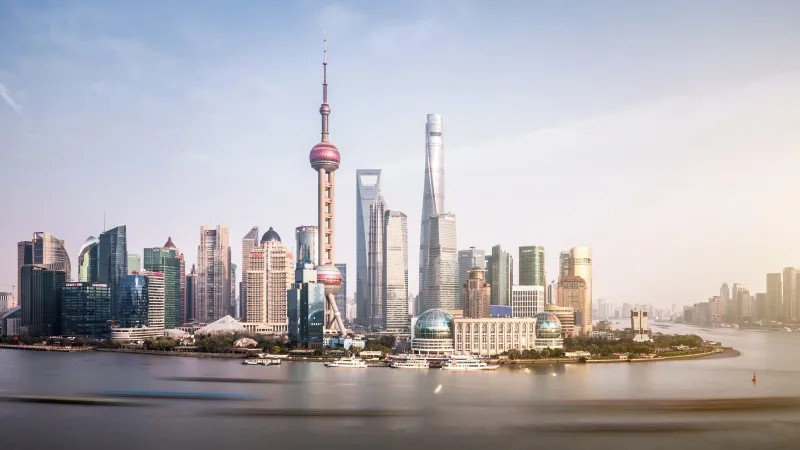Oriental: (309, 27, 348, 333)
